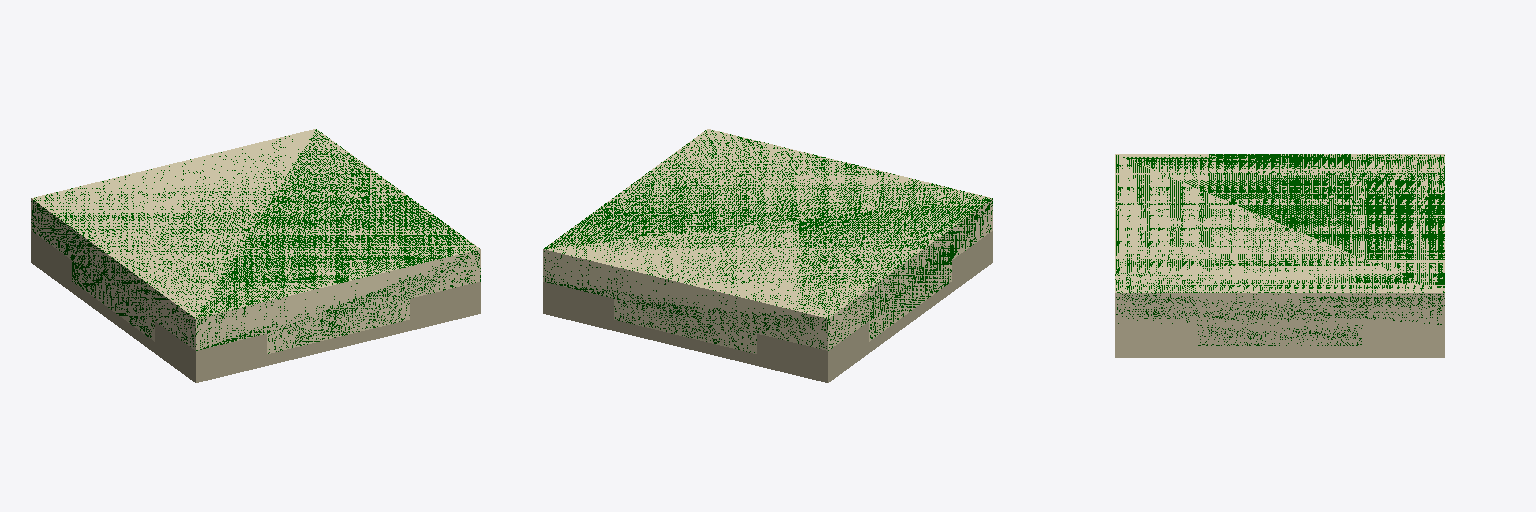
File: towerSquareMidColorGreen.obj
3 renders of one model, left to right at view 1: azimuth 30°, elevation 25°; view 2: azimuth 150°, elevation 25°; view 3: azimuth 270°, elevation 25°, orthographic.
Visible parts, largest first — view 1: towerSquareMidColor; view 2: towerSquareMidColor; view 3: towerSquareMidColor.
Boxes of the visible parts, box(x1,y1,x2,y2) form: towerSquareMidColor: box(31, 129, 480, 382); towerSquareMidColor: box(543, 129, 992, 382); towerSquareMidColor: box(1115, 154, 1444, 357).
Size of the model in its own units: 9.3 by 2.02 by 9.3.